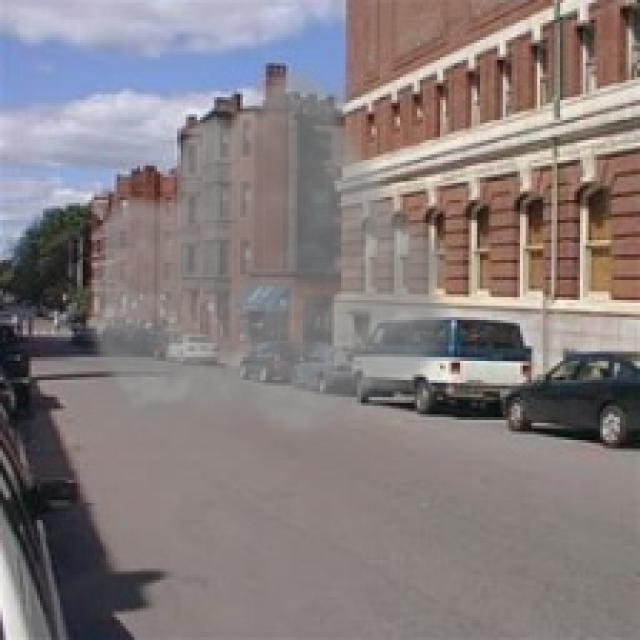Smoke: (80, 57, 463, 440)
